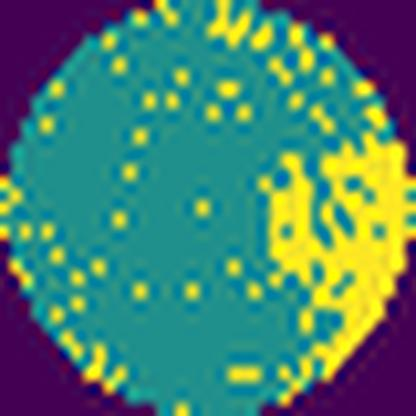Edge-Loc: (266, 134, 415, 394)
